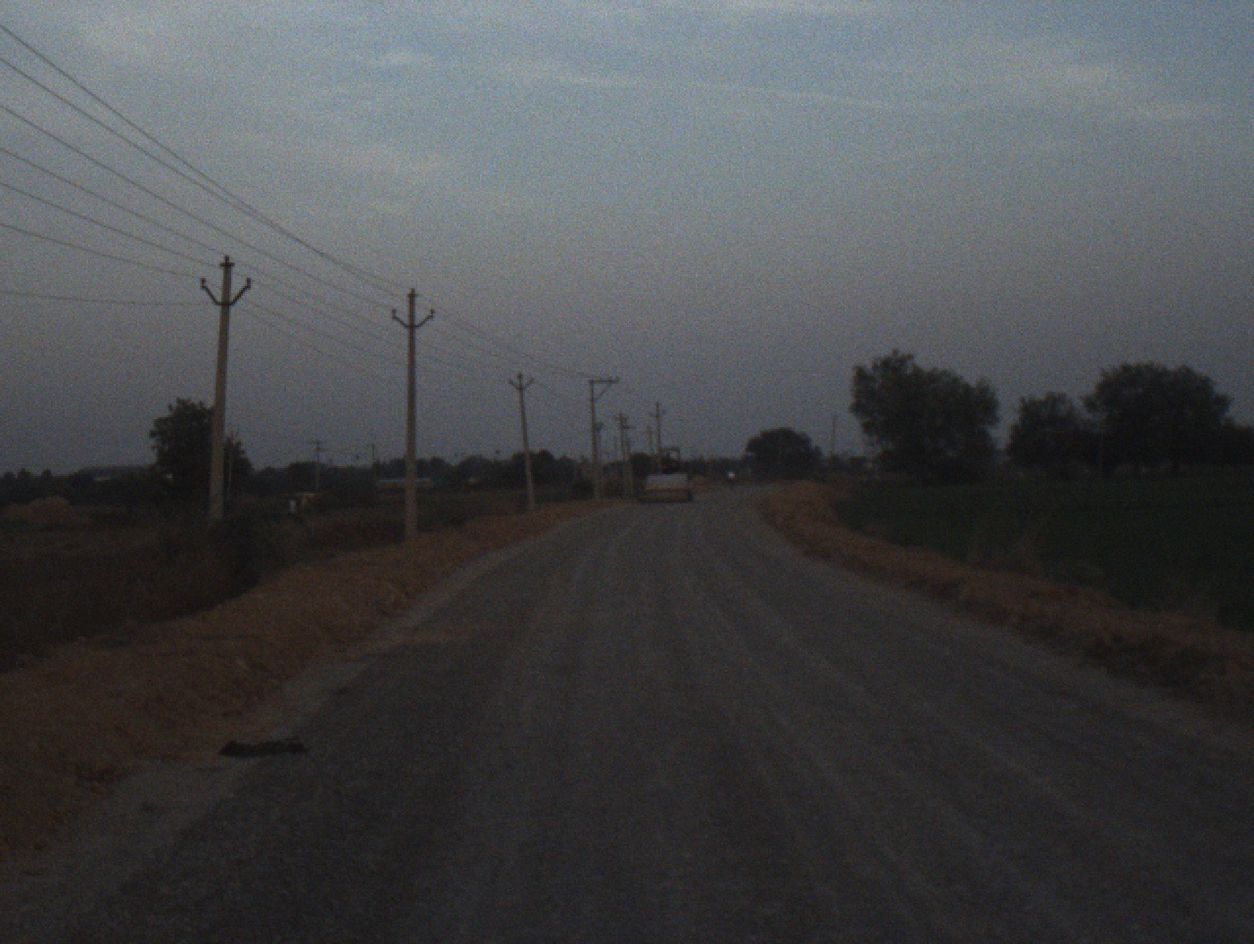vehicle fallback: (637, 436, 698, 506)
